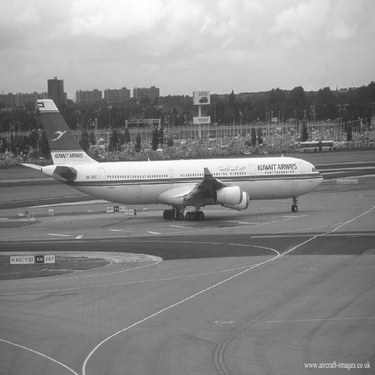airplane: (18, 93, 334, 225)
